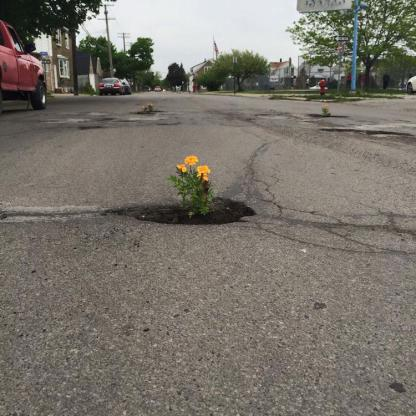pothole: (94, 192, 259, 232)
